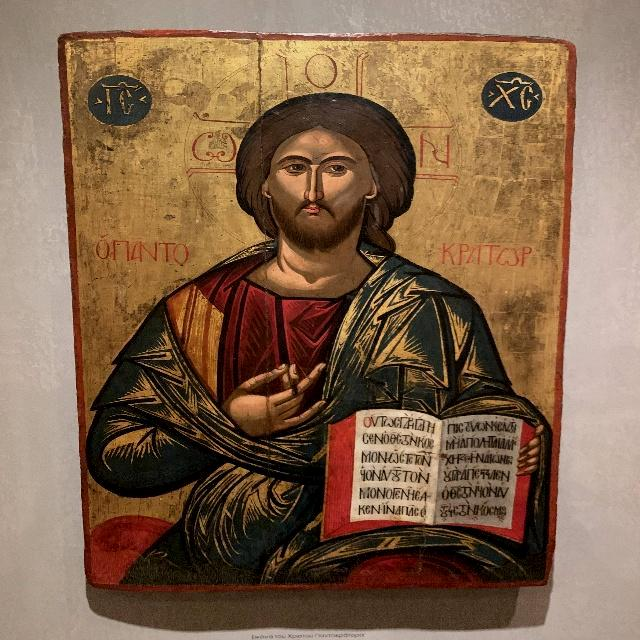aura: (183, 58, 458, 250)
book: (332, 410, 531, 541)
christ_pantocrator: (88, 38, 539, 583)
